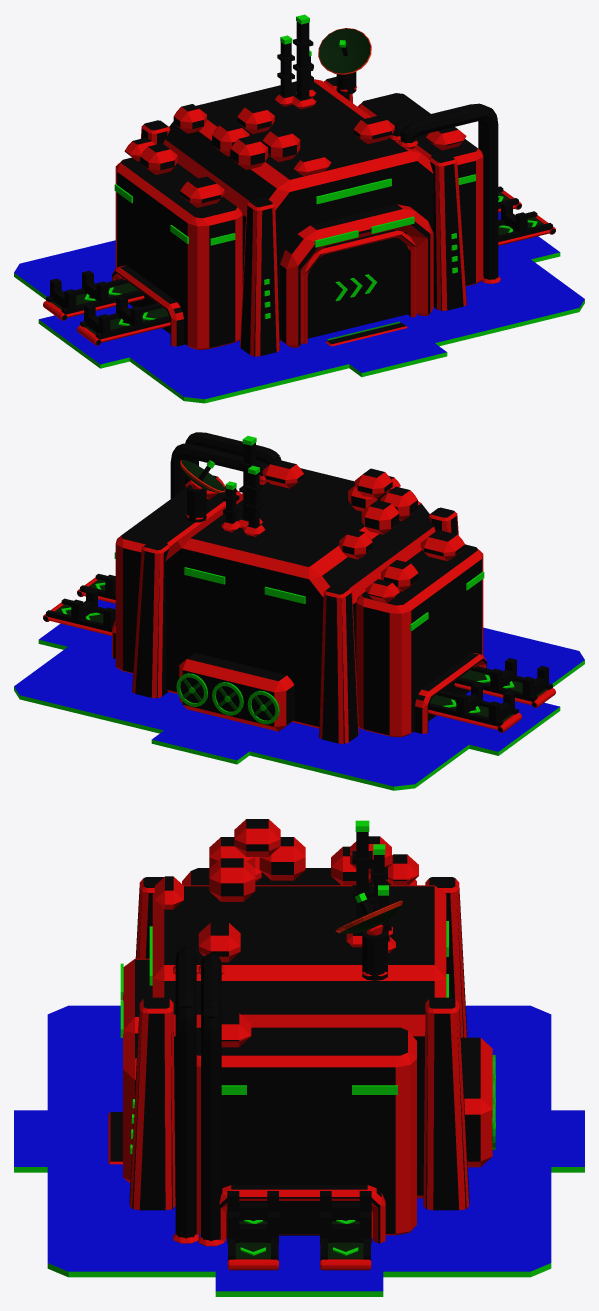
File: SM_Holo_LogisticsHub_T3_Mini.fbx
3 views of the same model, one above another, from view 1: azimuth 30°, elevation 25°; view 2: azimuth 150°, elevation 25°; view 3: azimuth 270°, elevation 25° (orthographic). The views are drawn at different scales.
Visible parts, largest first — view 1: SM_Holo_LogisticsHub_T3_Mini; view 2: SM_Holo_LogisticsHub_T3_Mini; view 3: SM_Holo_LogisticsHub_T3_Mini.
Part boxes in pixels (left/top/right/bottom): SM_Holo_LogisticsHub_T3_Mini: left=14, top=14, right=584, bottom=403; SM_Holo_LogisticsHub_T3_Mini: left=14, top=432, right=584, bottom=790; SM_Holo_LogisticsHub_T3_Mini: left=14, top=819, right=584, bottom=1296.
Bounding box in the file's own units: 34.51 × 17.82 × 27.2.
